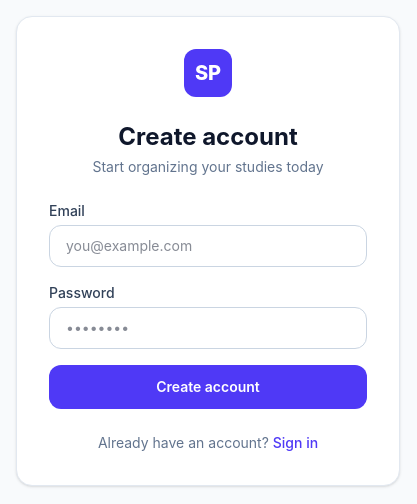
it: CreateAccountPage › shows a loading state while the request is in flight
This screenshot has width=417, height=504.
Type "a@b.com" into the field labelled "Email" at (208, 246), box [49,225,367,267]
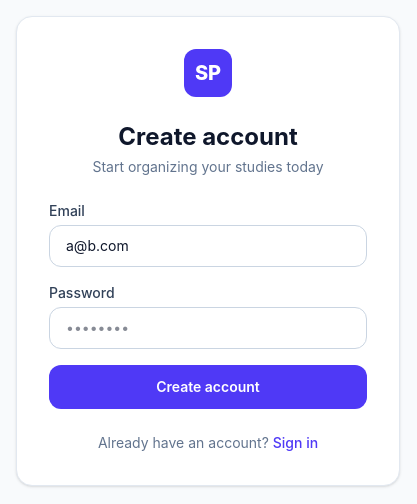
Type "pass123" into the password field labelled "Password" at (208, 328), box [49,307,367,349]
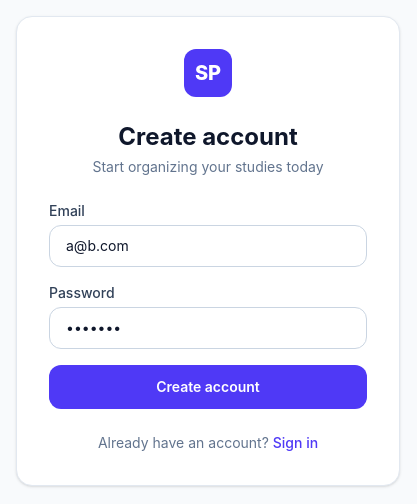
Click the button "Create account" at (208, 387), box [49,365,367,409]
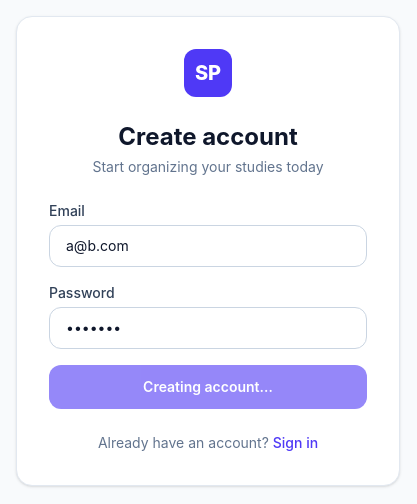
Result: the button "Creating account…" is disabled at [49,365,367,409]
